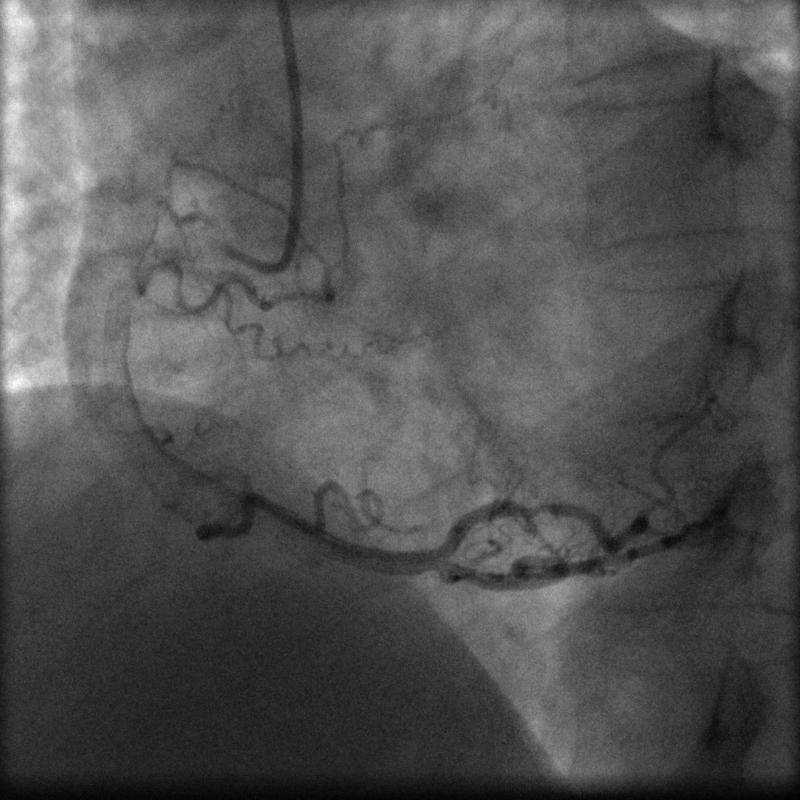Stenosis: (503, 494, 557, 526)
